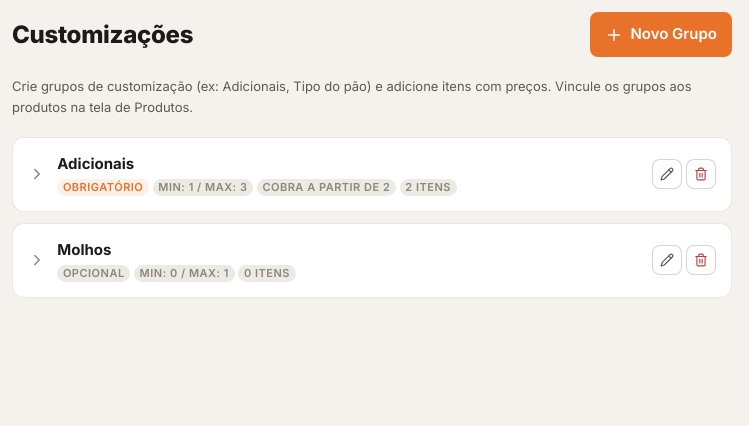
Test: CustomizationsPage › shows the empty-items hint for a group with no items
The width and height of the screenshot is (749, 426).
Expected: the text "Molhos" is shown, [57, 240, 112, 259]
Click the button with aria-label "Expandir Molhos".
click(84, 249)  # box [28, 239, 641, 282]
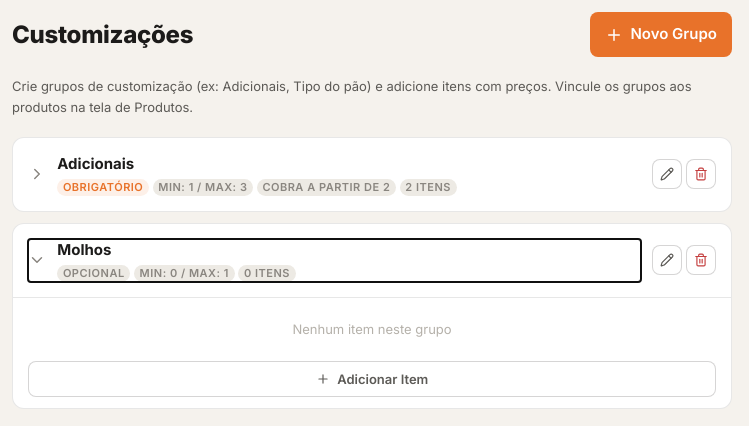
Result: the text "Nenhum item neste grupo" is shown at [292, 321, 452, 337]
